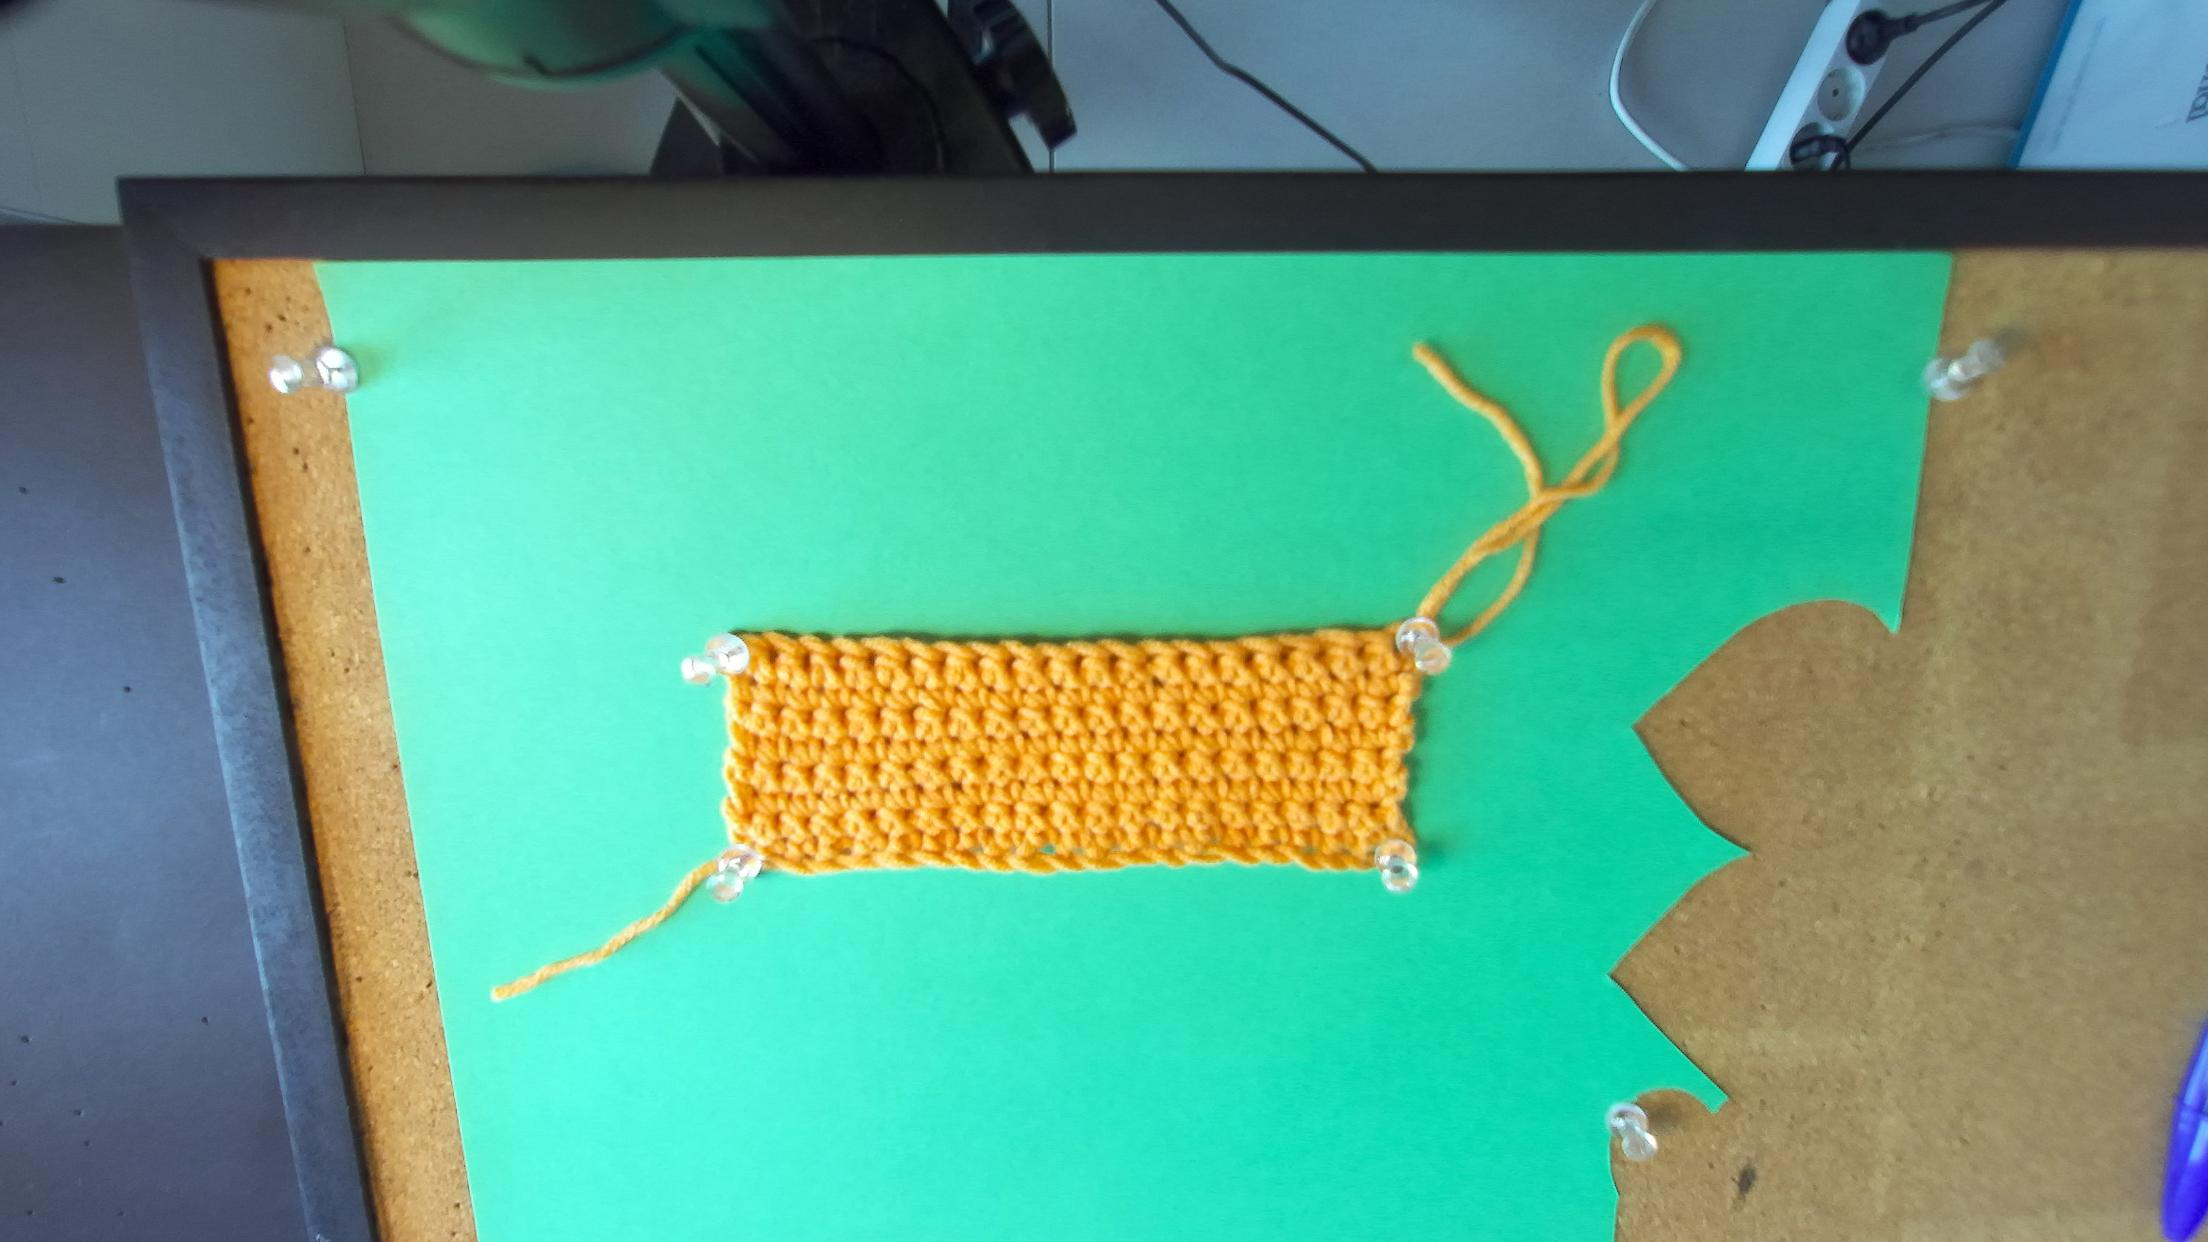hole: (766, 643, 784, 666), (1004, 651, 1022, 673), (901, 652, 917, 676), (864, 648, 881, 670), (972, 649, 987, 672), (831, 649, 845, 673), (1074, 654, 1089, 673), (1039, 655, 1054, 673), (1107, 652, 1121, 672), (801, 648, 811, 672), (937, 654, 948, 676), (1142, 655, 1159, 667), (1357, 640, 1368, 658), (1280, 648, 1294, 661), (1242, 651, 1254, 666), (1177, 651, 1189, 664), (1209, 654, 1222, 666), (1315, 648, 1328, 660)
swatch: (713, 629, 1419, 892)
